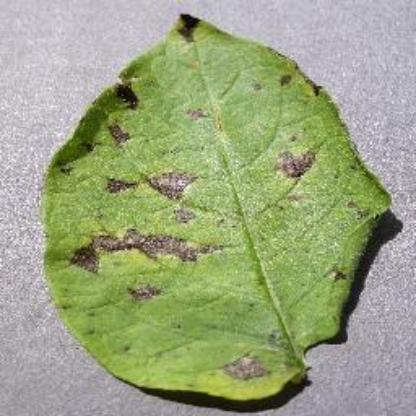Early-Blight: (39, 10, 395, 406)
